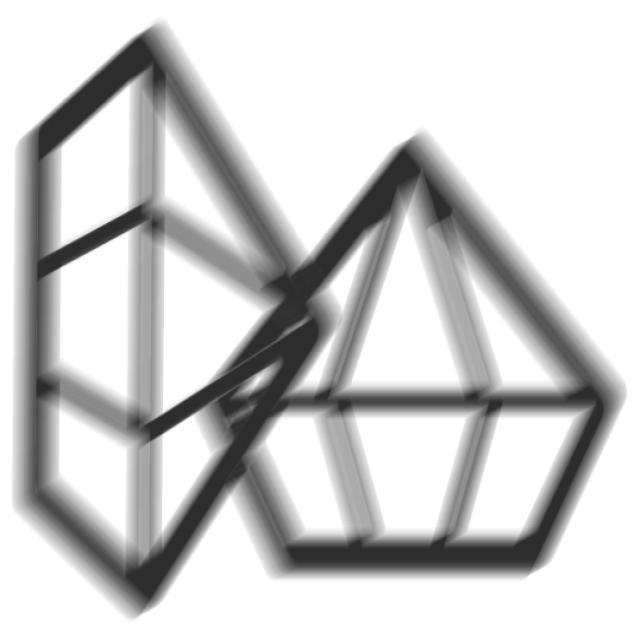diamond: (5, 11, 355, 637), (199, 118, 637, 588)
